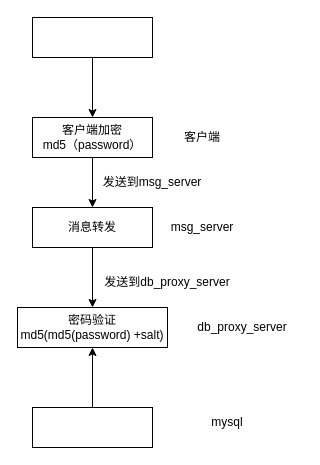
The diagram is 320 pixels wide and 465 high, and some of its shapes have lost their labels. Here are the shapes that lost their labels. From the top down, the box of each, then its label:
(32, 16, 152, 58): 原始密码password
(32, 406, 152, 448): 数据库比对
